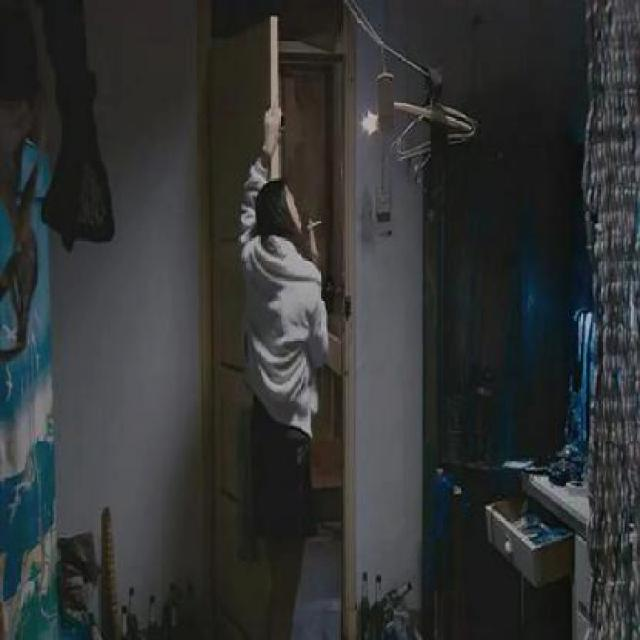hand_noglove: (260, 98, 282, 156), (303, 216, 319, 270)
head_nohelmet: (257, 176, 297, 210)
person: (231, 84, 338, 638)
